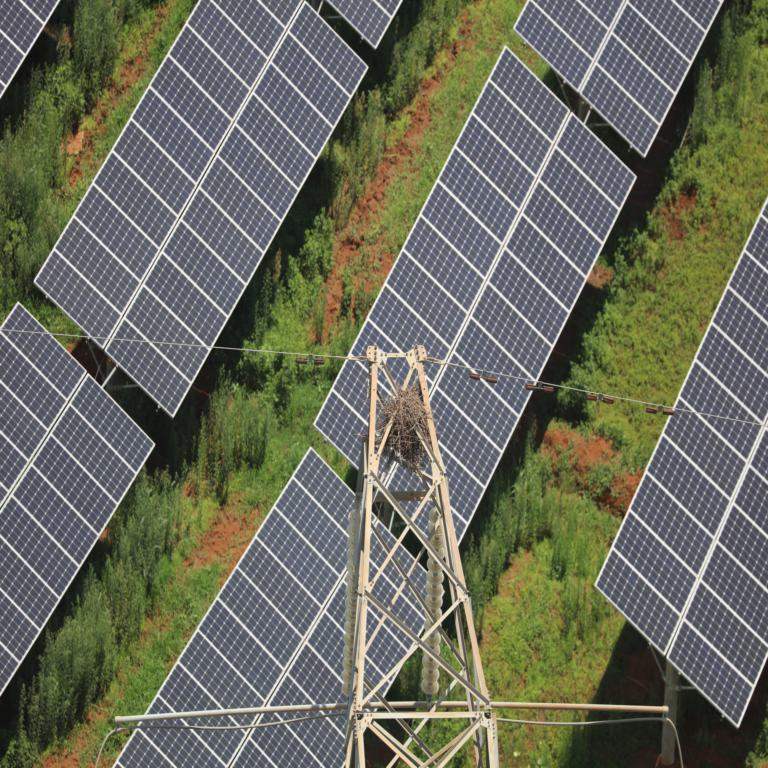nest: (374, 389, 432, 458)
